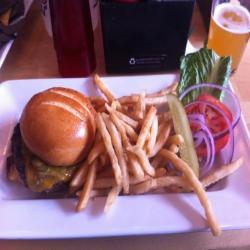beer: (207, 2, 250, 73)
burger: (12, 85, 94, 213)
fries: (91, 83, 199, 198)
